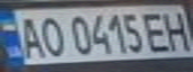0: (66, 11, 93, 56)
1: (106, 10, 127, 54)
4: (87, 10, 109, 55)
5: (121, 9, 148, 54)
A: (12, 13, 48, 60)
E: (139, 9, 175, 53)
H: (160, 9, 193, 52)
O: (33, 14, 66, 57)
